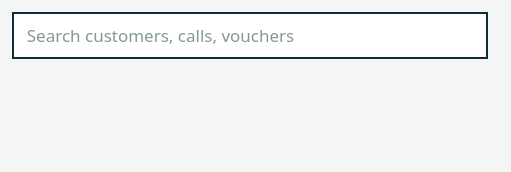
Test: GlobalSearch › explains a failed search
Type "rohan" into the dropdown named "Search customers, calls and vouchers" at [250, 35], box x1=12 y1=12 x2=488 y2=59
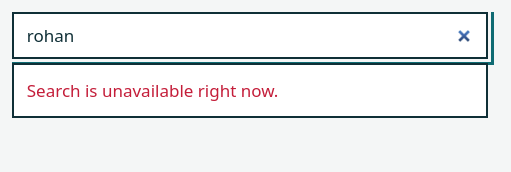
Now the text "Search is unavailable right now." is shown, box x1=27 y1=79 x2=278 y2=102
